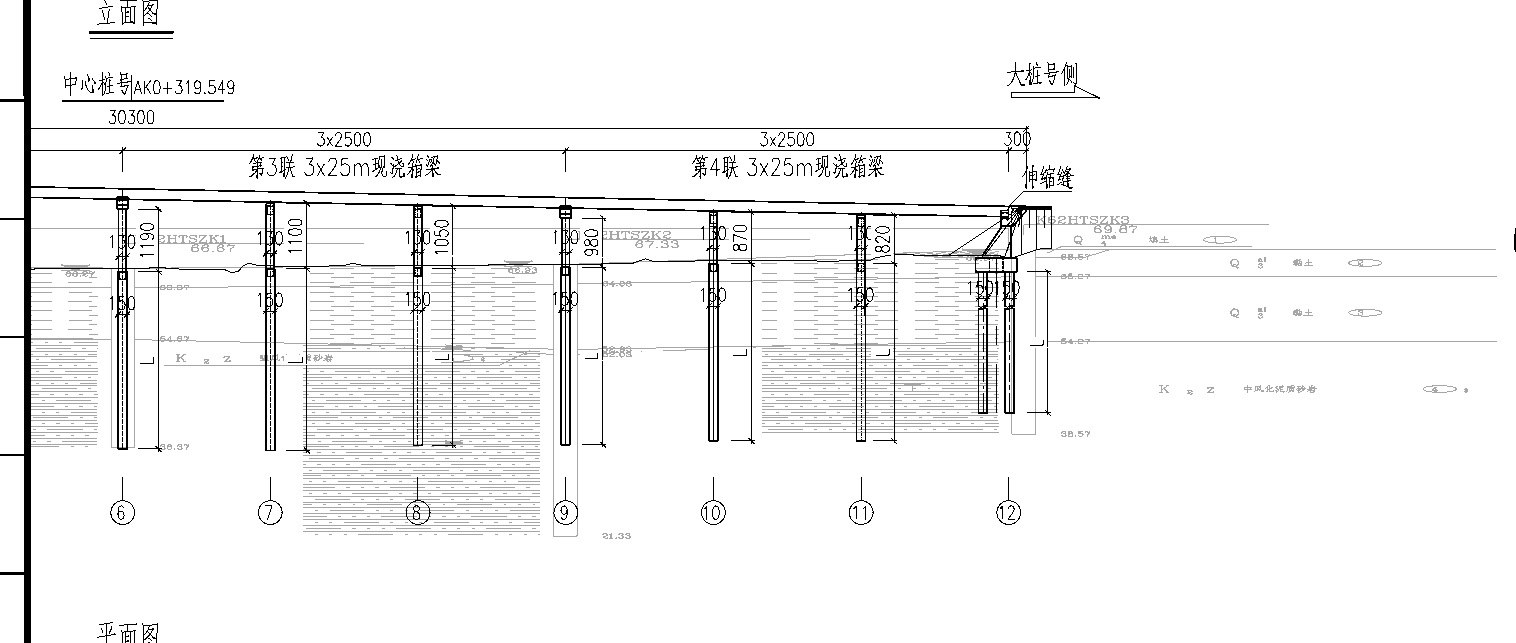C: (236, 197, 295, 536), (99, 187, 156, 534), (397, 195, 453, 547), (965, 244, 1027, 530), (691, 211, 735, 536), (840, 206, 881, 541), (548, 199, 587, 545)
